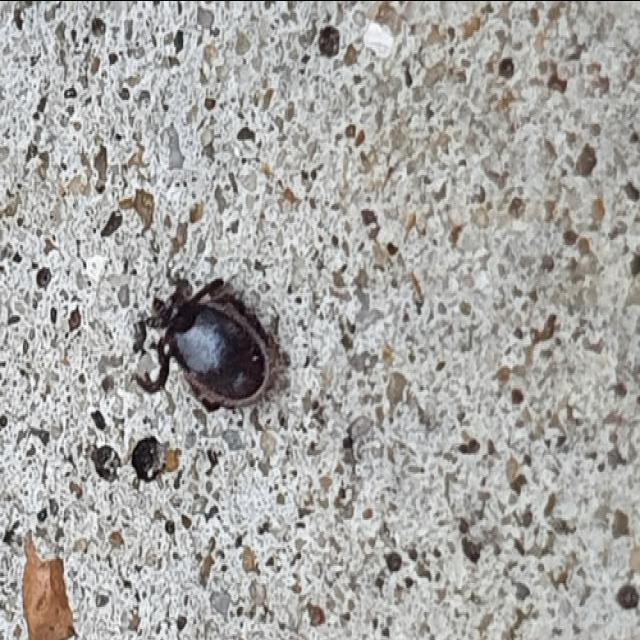Ixodes Ricinus-M: (141, 276, 287, 410)
